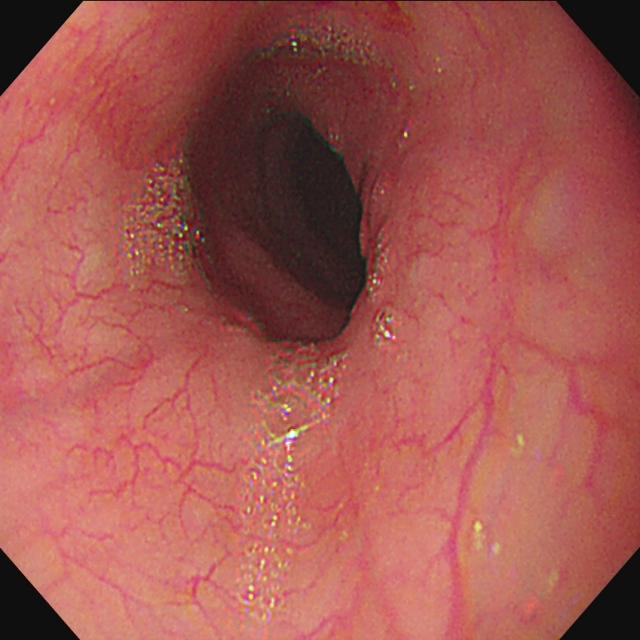E: (298, 119, 365, 295)
T: (242, 342, 352, 622), (125, 153, 208, 282), (272, 25, 387, 67), (365, 229, 395, 298), (374, 307, 399, 346)
